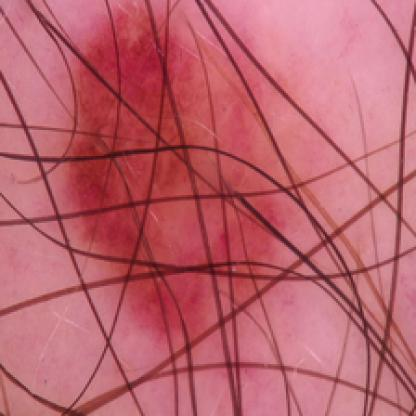benign: (65, 15, 269, 321)
